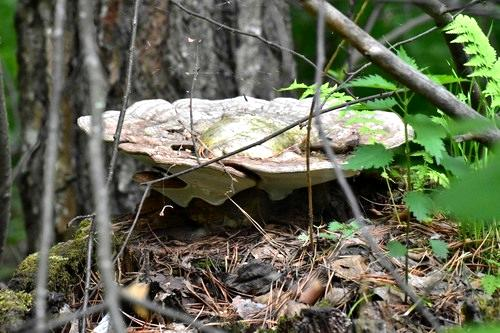Ganoderma - Fruit Body: (74, 93, 417, 207)
